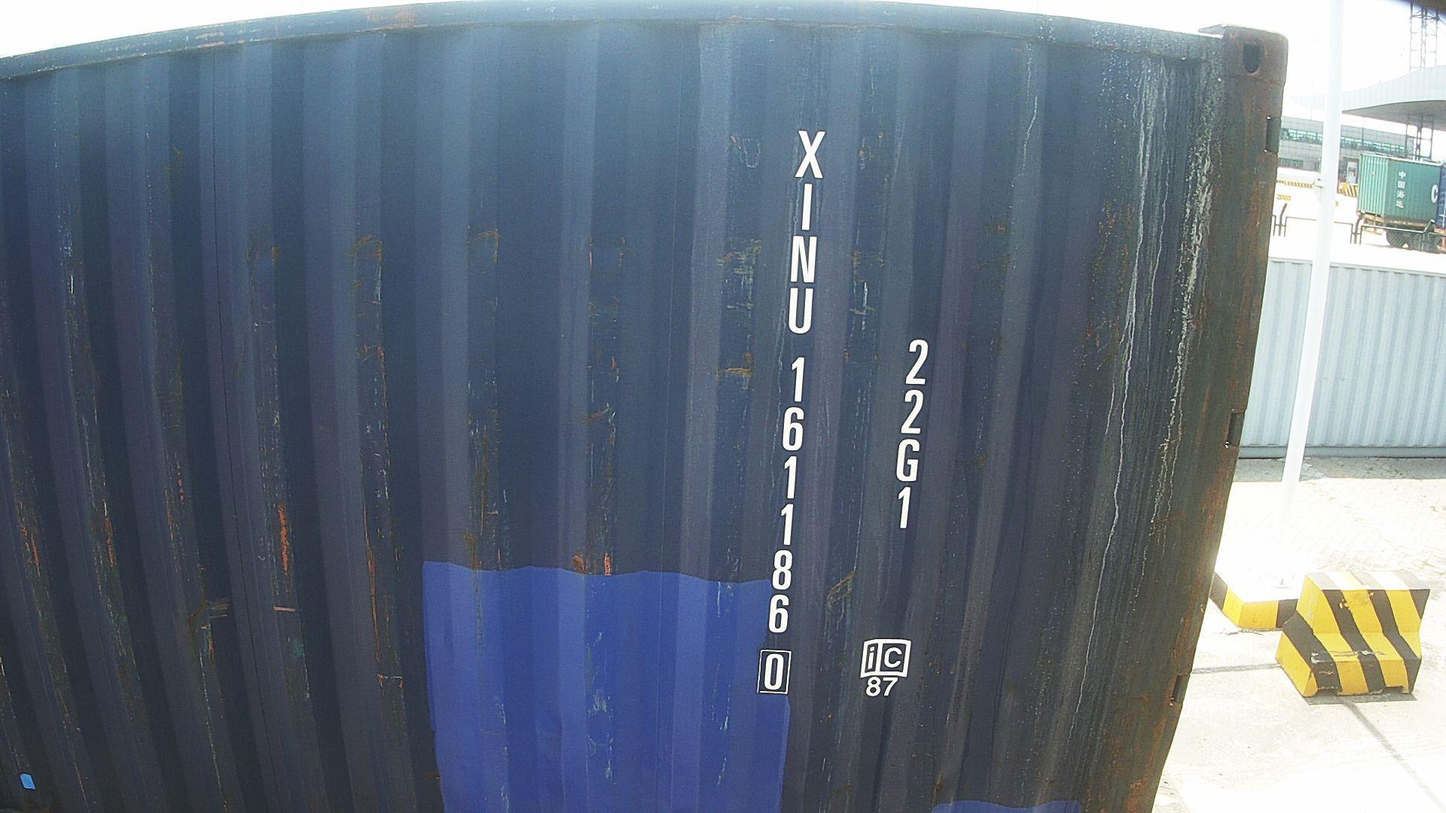container-numbers: (755, 126, 828, 699), (883, 330, 935, 535)
